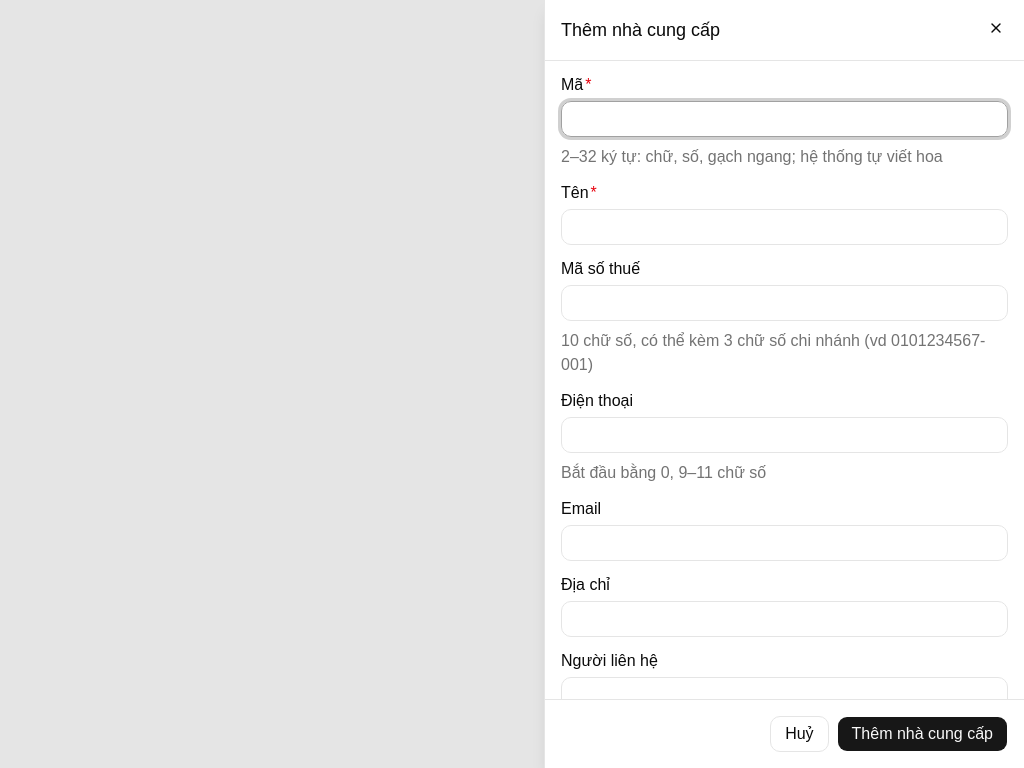
SupplierFormSheet — tạo mới › lỗi backend 101205 hiện dưới đúng ô code, không toast, hộp xác nhận đã đóng
Type "ncc-hn-02" into the field labelled "Mã *". click: point(784, 119)
box: [561, 101, 1008, 137]
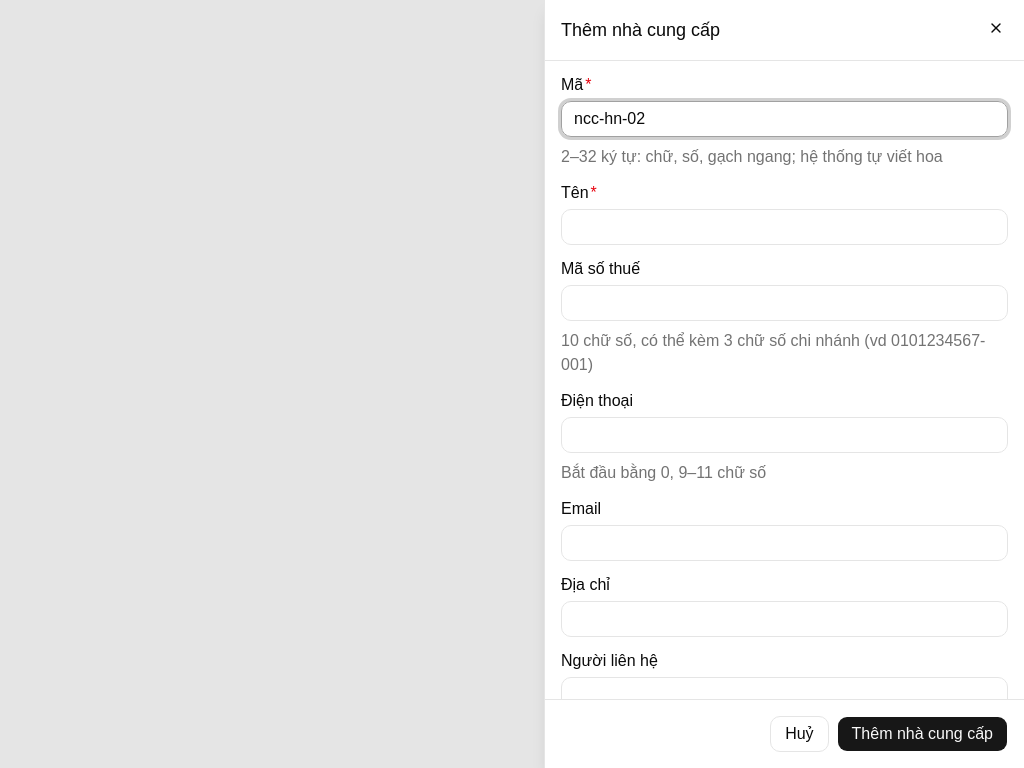
Type "Công ty XYZ" into the field labelled "Tên *". click: point(784, 227)
box: [561, 209, 1008, 245]
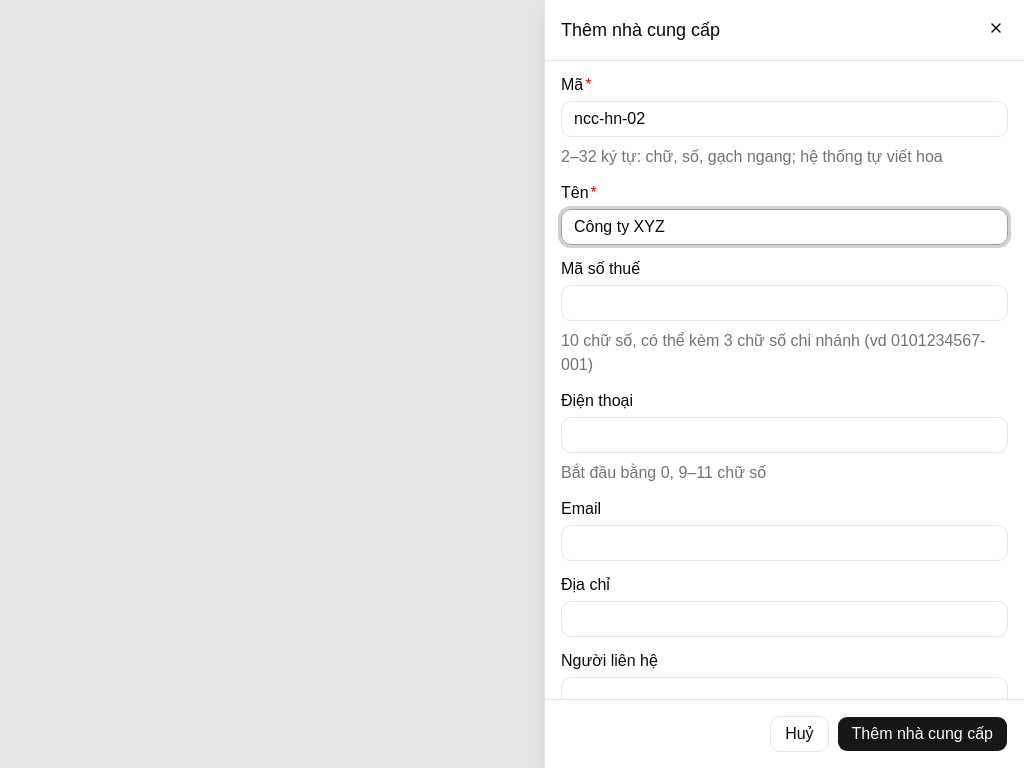
Click the button "Thêm nhà cung cấp". click: point(922, 734)
box: [837, 716, 1008, 752]
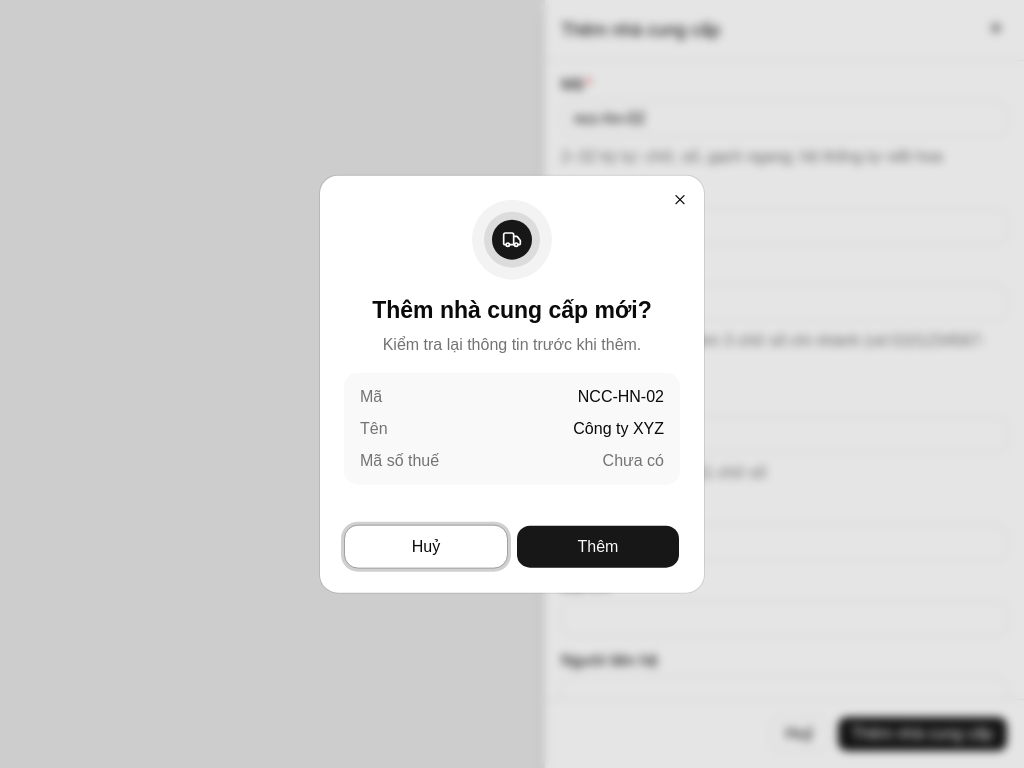
Click the button "Thêm". click: point(598, 546)
box: [516, 524, 680, 568]
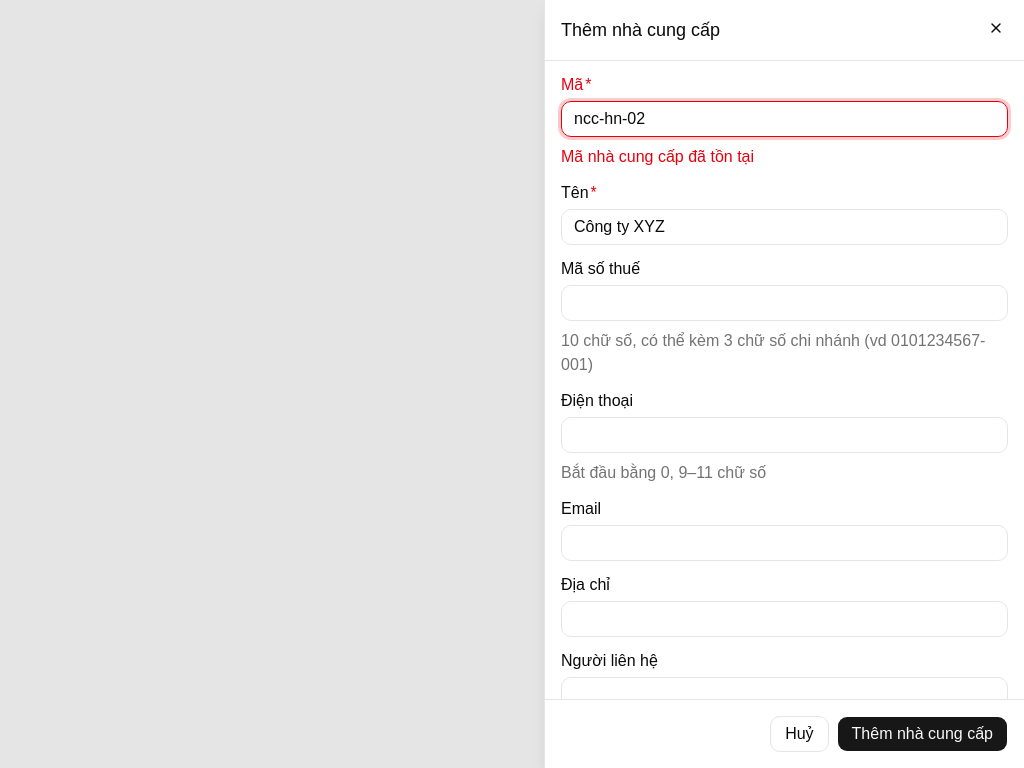
Expected: the text "Mã nhà cung cấp đã tồn tại" is shown, [561, 148, 754, 165]
